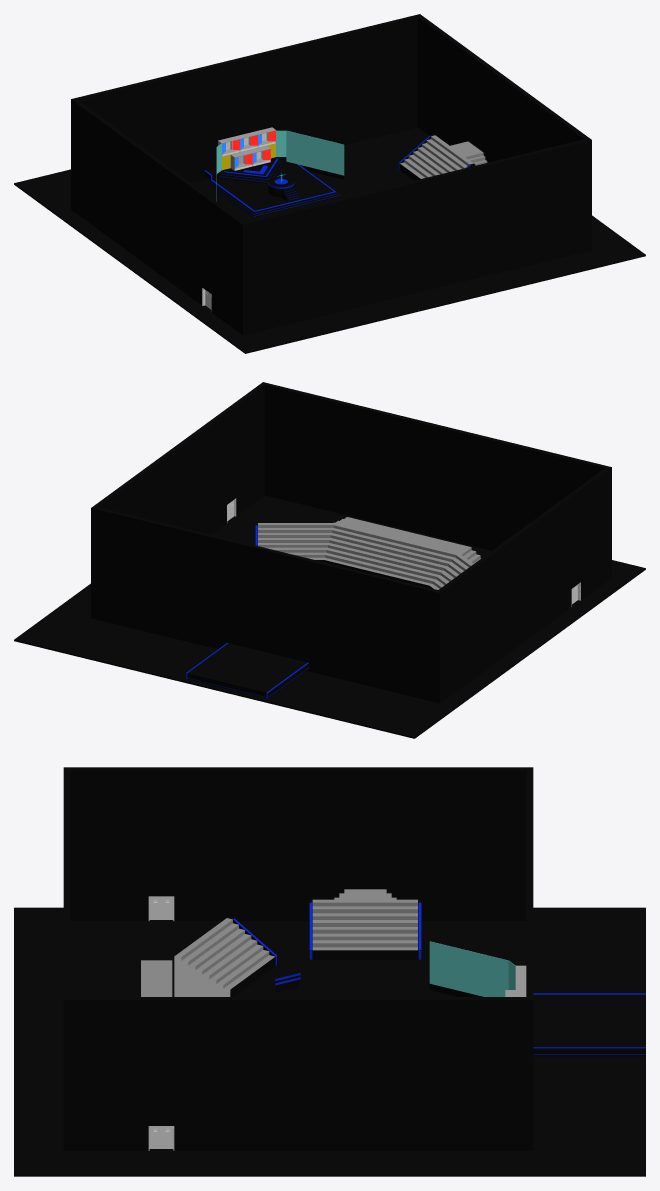
File: Your_Eating_Voice_Map2.fbx
The picture shows the model from 3 angles, top to bottom: view 1: azimuth 30°, elevation 25°; view 2: azimuth 150°, elevation 25°; view 3: azimuth 270°, elevation 25°; orthographic projection. The views are drawn at different scales.
Visible parts, largest first — view 1: Cube.044, Cube.049, Cube.045, Cube.024, Cube.043, Cube.005, Cube.035, Cube.018, Cube.046; view 2: Cube.049, Cube.044, Cube.024, Cube.045, Cube.043, Cube.033, Cube.005; view 3: Cube.043, Cube.024, Cube.045, Cube.005, Cube.033, Cube.040, Cube.019, Cube.049, Cube.044, Cube.042.
Boxes of the visible parts, box(x1,y1,x2,y2) form: Cube.044: box(243, 139, 591, 334); Cube.049: box(71, 15, 417, 182); Cube.045: box(71, 99, 247, 335); Cube.024: box(14, 127, 645, 353); Cube.043: box(416, 14, 591, 250); Cube.005: box(204, 157, 336, 213); Cube.035: box(398, 134, 475, 180); Cube.018: box(286, 130, 344, 175); Cube.046: box(450, 141, 488, 165); Cube.049: box(91, 507, 442, 703); Cube.044: box(265, 383, 611, 569); Cube.024: box(14, 495, 645, 738); Cube.045: box(438, 466, 611, 703); Cube.043: box(91, 382, 267, 534); Cube.033: box(255, 516, 481, 589); Cube.005: box(186, 643, 309, 698); Cube.043: box(63, 997, 533, 1150); Cube.024: box(14, 907, 645, 1176); Cube.045: box(63, 767, 526, 920); Cube.005: box(533, 993, 645, 1056); Cube.033: box(139, 916, 277, 996); Cube.040: box(309, 899, 421, 959); Cube.019: box(429, 941, 508, 996); Cube.049: box(526, 767, 533, 1150); Cube.044: box(63, 767, 70, 1150); Cube.042: box(334, 888, 396, 899).
Size of the model in its own units: 9000 by 2400 by 9001.
